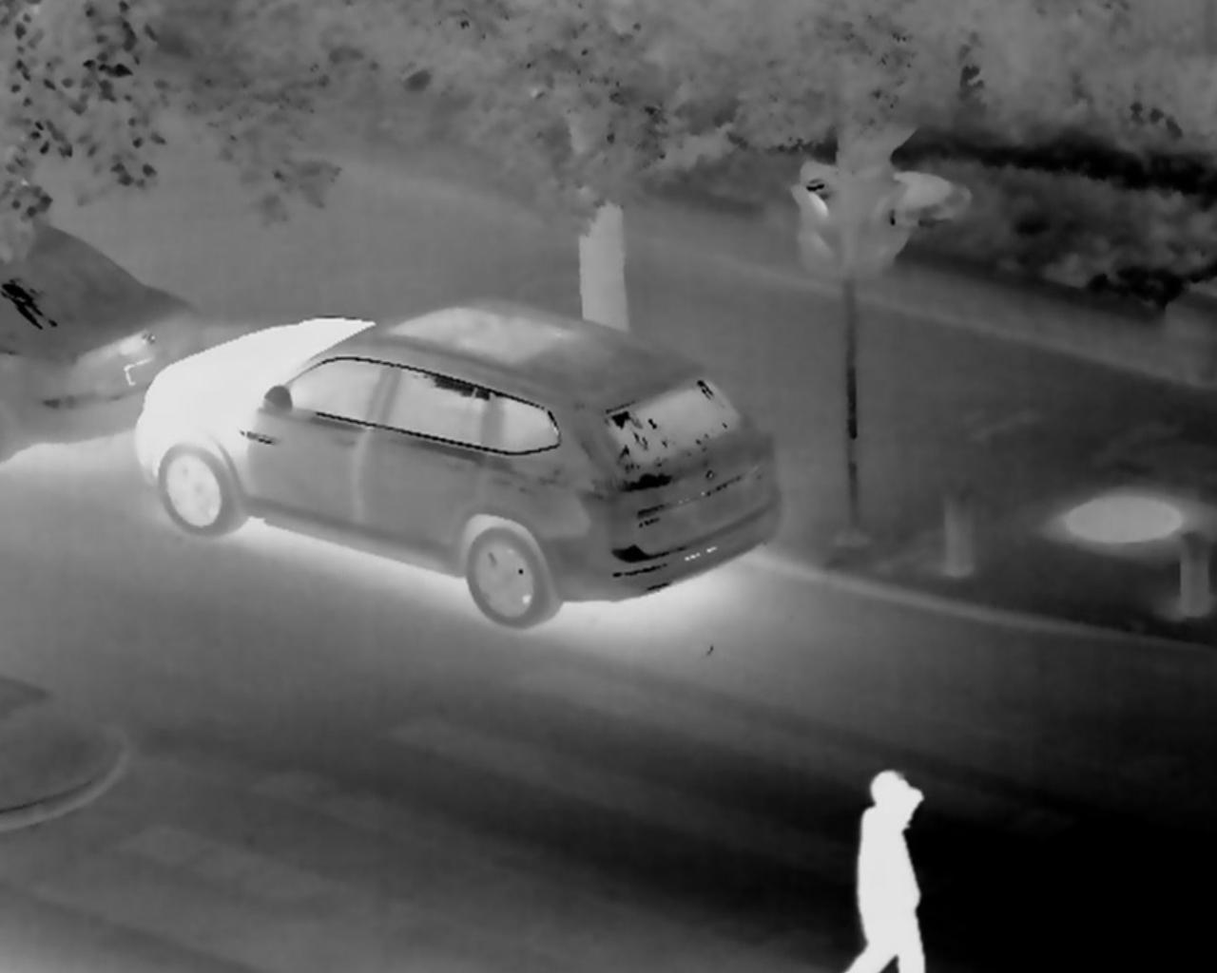person: (845, 765, 930, 973)
